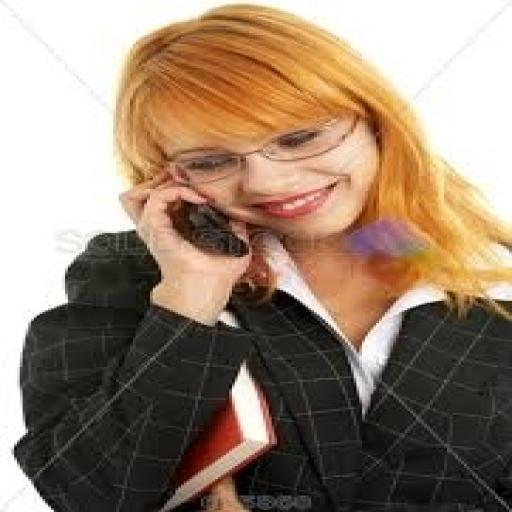calling: (9, 2, 509, 510)
